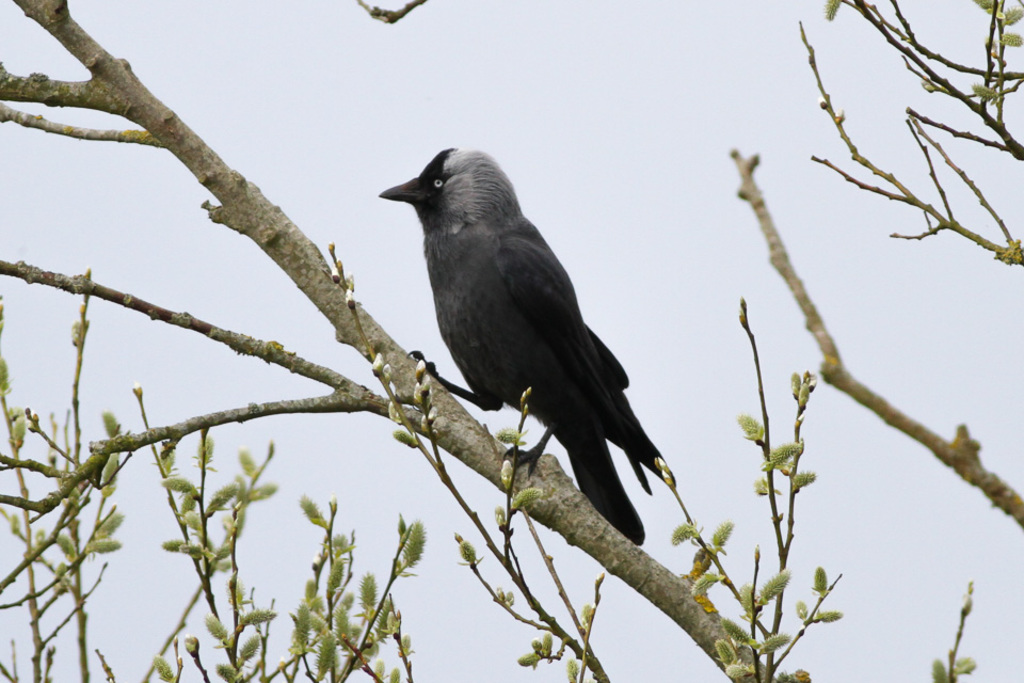Tree: (0, 0, 1022, 681)
